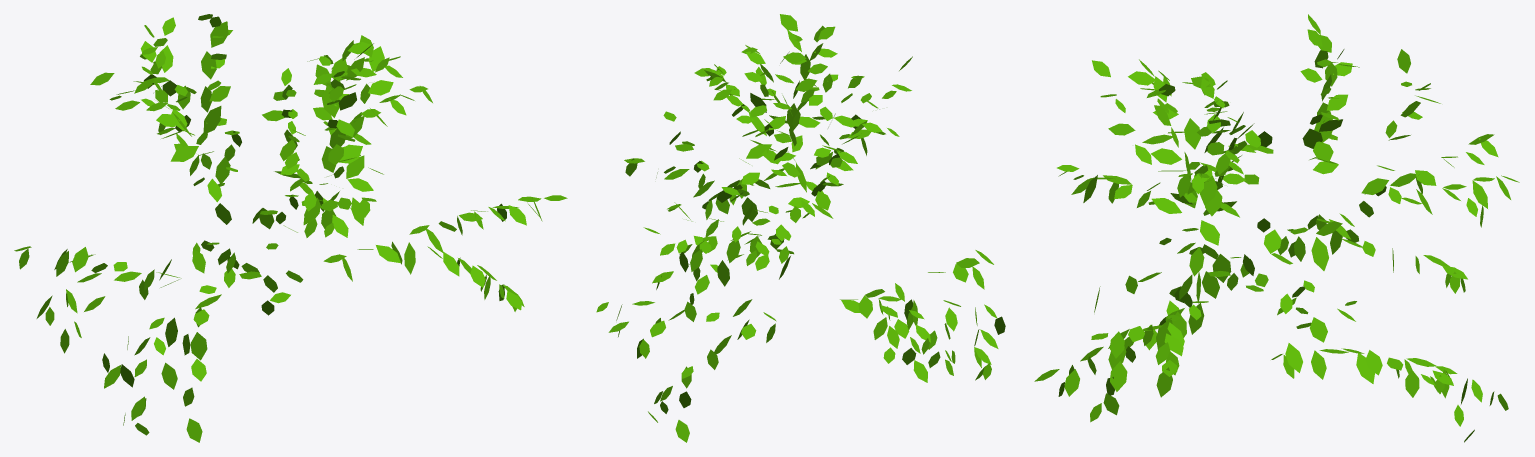
Rendered from TREE_LEAF_3.fbx.
The picture shows the model from 3 angles, left to right: view 1: azimuth 30°, elevation 25°; view 2: azimuth 150°, elevation 25°; view 3: azimuth 270°, elevation 25°; orthographic projection. The views are drawn at different scales.
Visible parts, largest first — view 1: leaves.004; view 2: leaves.004; view 3: leaves.004.
Part boxes in pixels (x1,y1,x2,y2): leaves.004: (14,14,567,442); leaves.004: (596,14,1005,442); leaves.004: (1034,14,1519,442).
Size of the model in its own units: 847 by 641 by 753.
